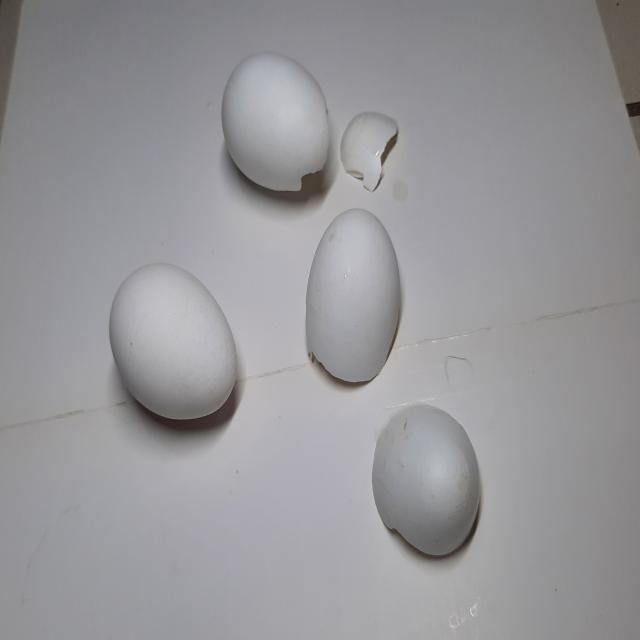egg shell: (104, 256, 240, 427), (300, 200, 406, 394), (370, 397, 484, 565), (215, 41, 332, 202), (340, 108, 397, 195)
